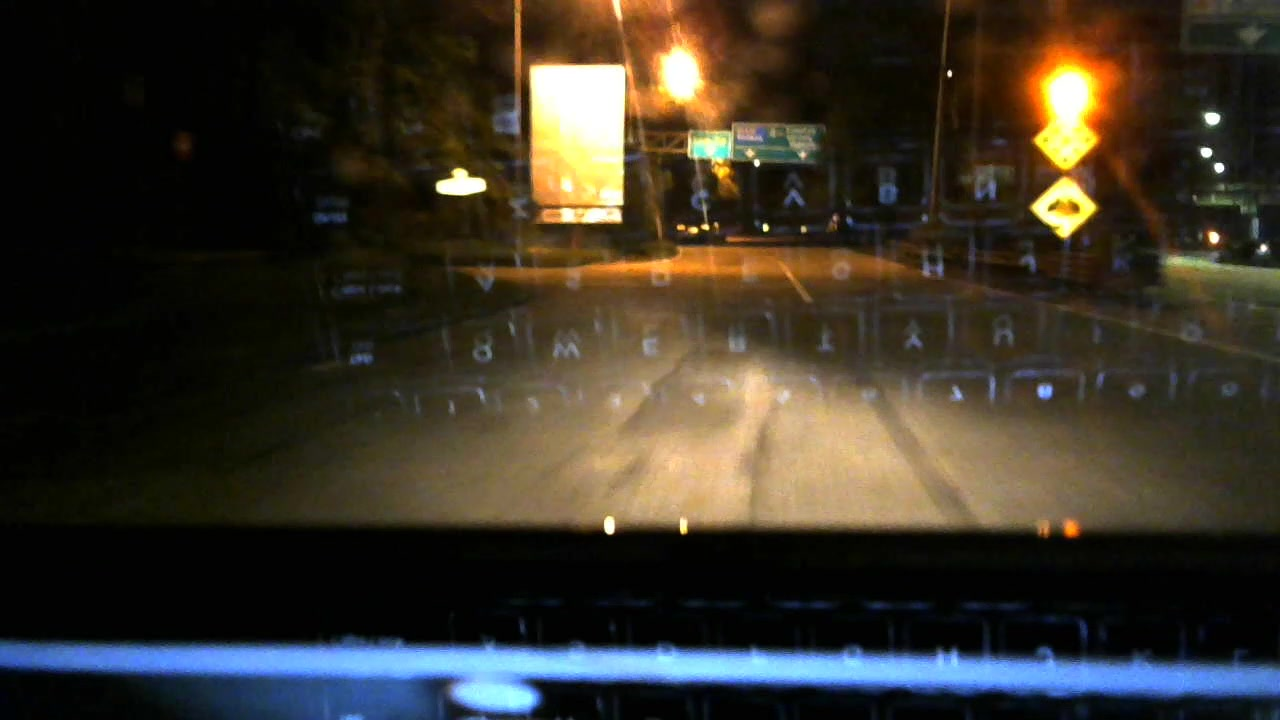Car: (669, 215, 727, 246)
